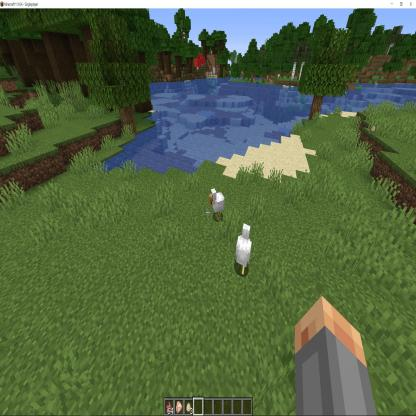minecraft-pigs: (188, 166, 234, 271), (131, 112, 147, 151), (180, 102, 188, 122)
